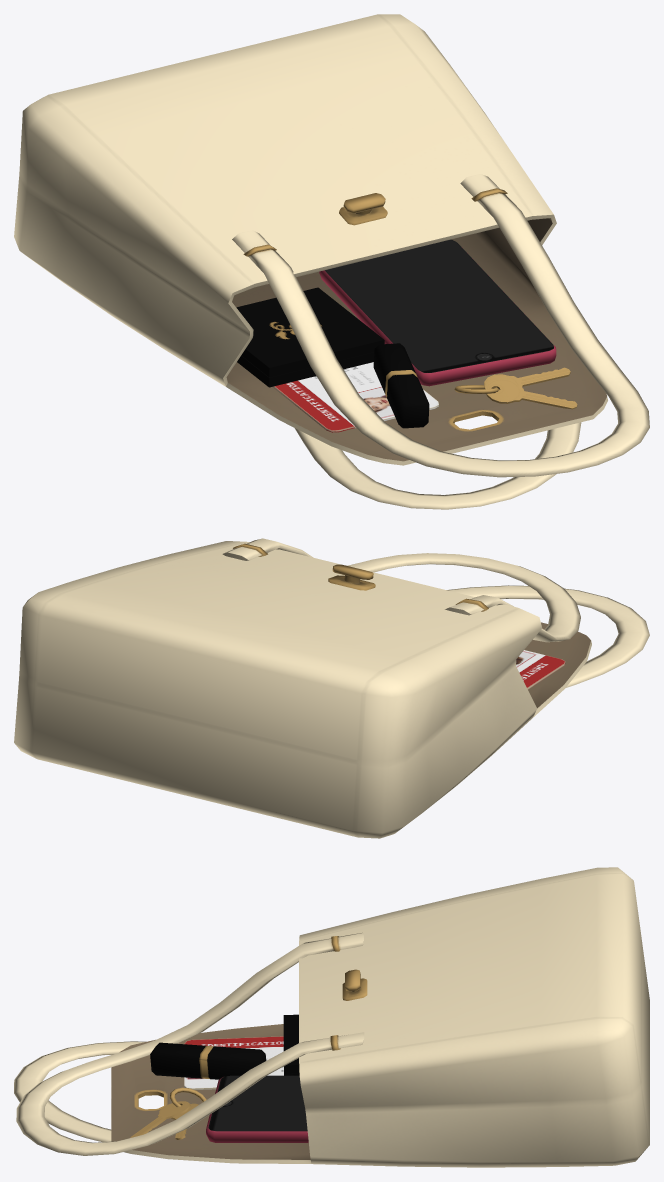
Rendered from handbag_01.fbx.
3 views of the same model, one above another, from view 1: azimuth 30°, elevation 25°; view 2: azimuth 150°, elevation 25°; view 3: azimuth 270°, elevation 25° (orthographic). The views are drawn at different scales.
Visible parts, largest first — view 1: handbag_01, handbag_01.phone, handbag_01.eyeshadow lid, handbag_01.ID, handbag_01.keys, handbag_01.lipstick, handbag_01.eyeshadow, handbag_01.lipstick lid; view 2: handbag_01, handbag_01.ID; view 3: handbag_01, handbag_01.phone, handbag_01.lipstick, handbag_01.ID, handbag_01.lipstick lid, handbag_01.keys, handbag_01.eyeshadow lid.
Boxes of the visible parts, x1,y1,x2,y2 form: handbag_01: [14, 14, 649, 509]; handbag_01.phone: [319, 239, 556, 386]; handbag_01.eyeshadow lid: [236, 287, 384, 377]; handbag_01.ID: [272, 362, 438, 432]; handbag_01.keys: [454, 367, 577, 409]; handbag_01.lipstick: [385, 370, 429, 428]; handbag_01.eyeshadow: [237, 352, 374, 387]; handbag_01.lipstick lid: [373, 343, 415, 392]; handbag_01: [14, 538, 649, 838]; handbag_01.ID: [516, 650, 565, 689]; handbag_01: [14, 867, 649, 1167]; handbag_01.phone: [206, 1075, 308, 1142]; handbag_01.lipstick: [150, 1042, 213, 1078]; handbag_01.ID: [184, 1036, 283, 1089]; handbag_01.lipstick lid: [207, 1046, 266, 1079]; handbag_01.keys: [130, 1087, 206, 1139]; handbag_01.eyeshadow lid: [283, 1014, 299, 1073].
Size of the model in its own units: 89.76 by 40.92 by 139.
